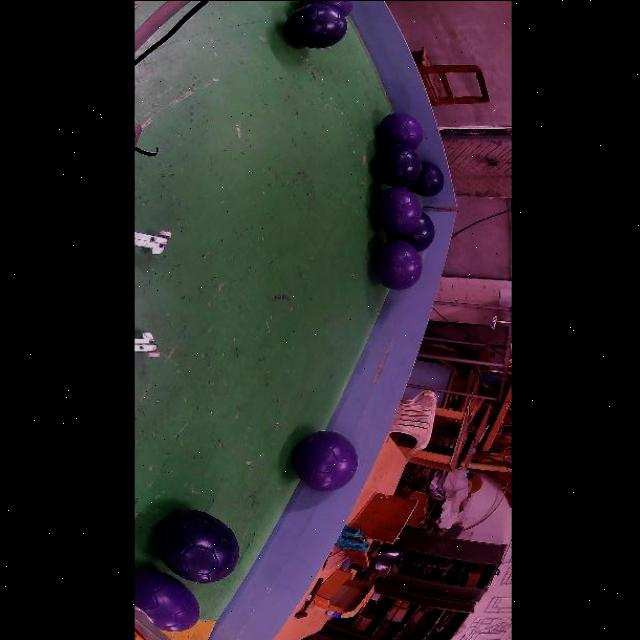B: (155, 508, 238, 583), (285, 2, 348, 48), (374, 142, 421, 187), (389, 212, 434, 251), (409, 161, 444, 196)
P: (293, 431, 357, 490), (134, 571, 193, 633), (373, 239, 423, 289), (373, 187, 421, 234), (378, 112, 423, 149), (299, 0, 353, 15)
